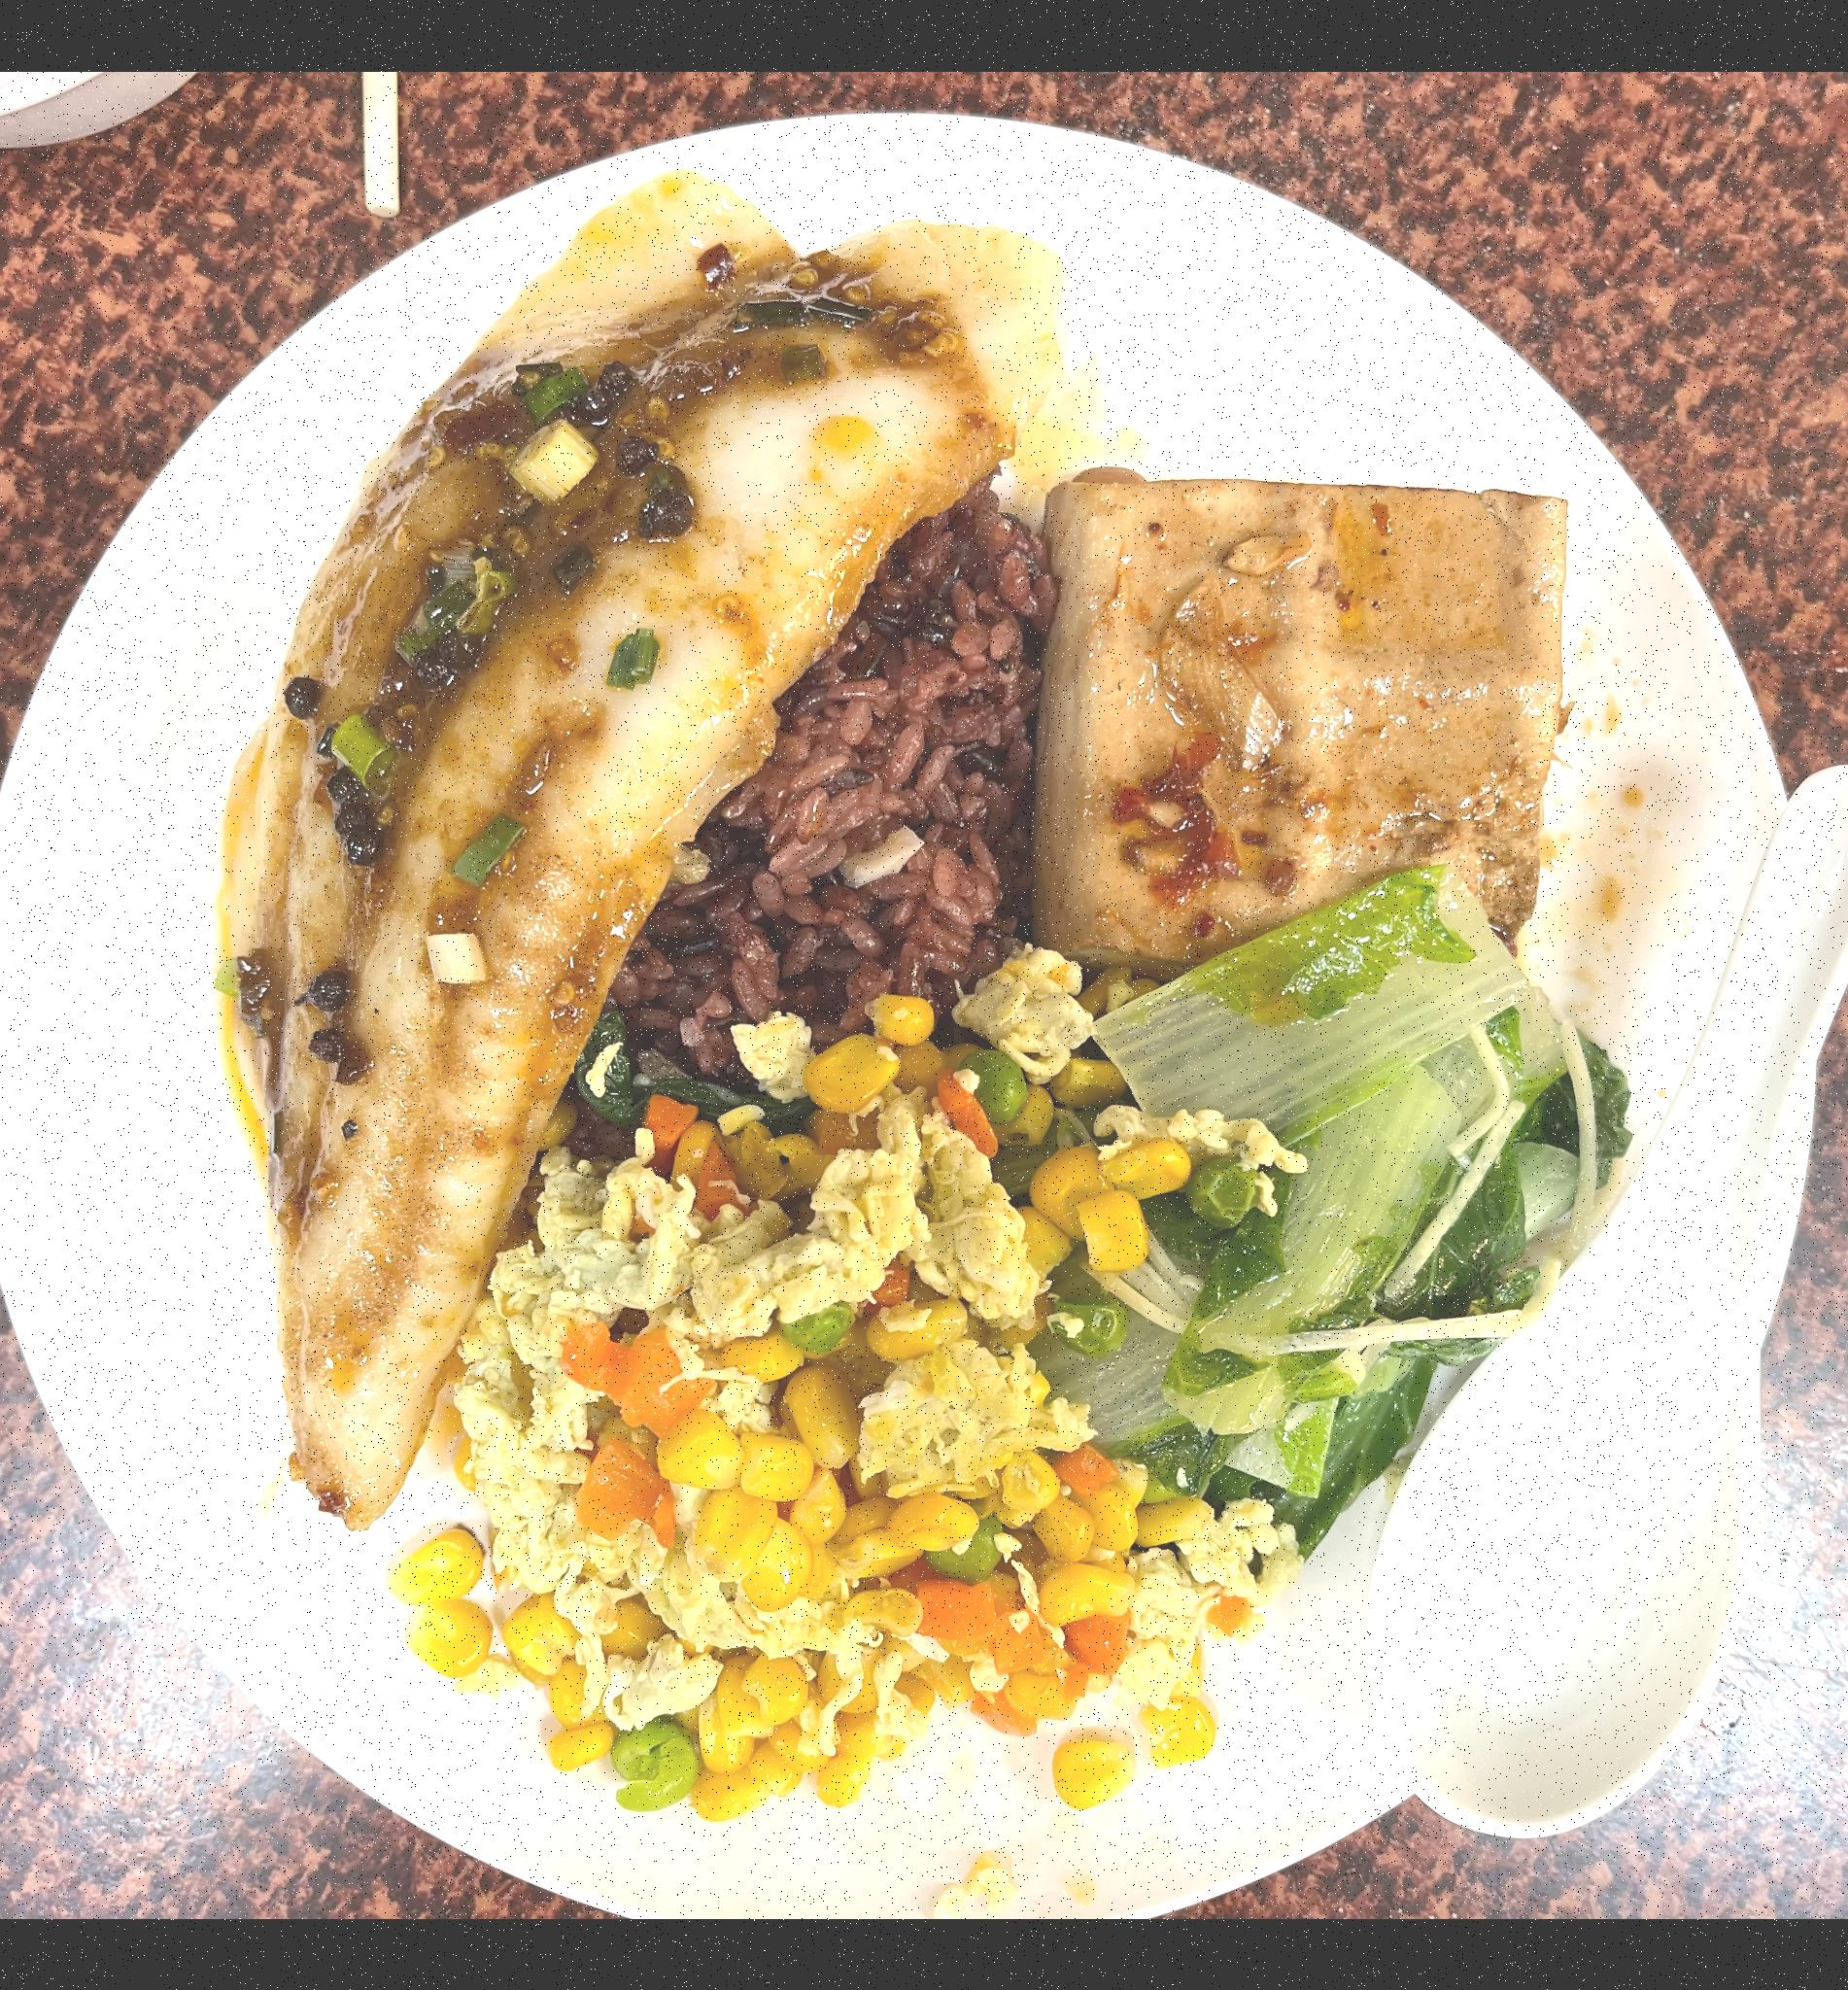braised fish fillet: (168, 151, 1014, 1497)
plate: (0, 71, 1812, 1898)
purple rice: (518, 474, 1053, 1177)
side dish: (408, 1066, 1205, 1796), (1068, 879, 1581, 1532), (1025, 455, 1605, 990)
